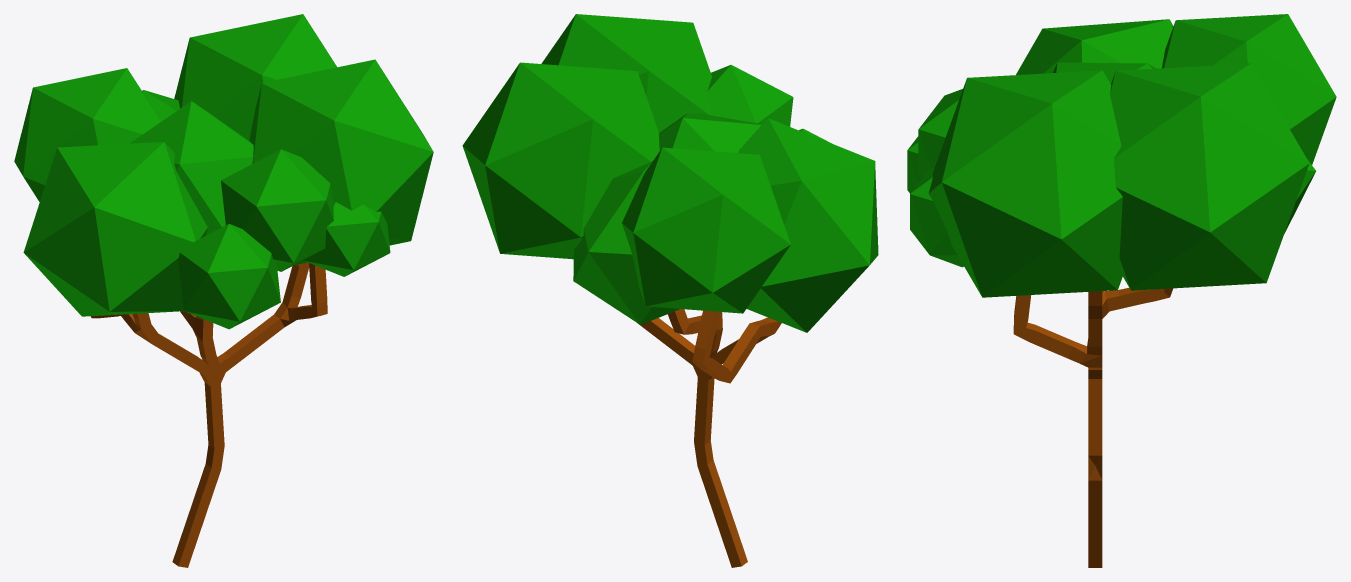
Rendered from Arbol Verde.fbx.
3 views of the same model, side by side, from view 1: azimuth 30°, elevation 25°; view 2: azimuth 150°, elevation 25°; view 3: azimuth 270°, elevation 25° (orthographic). The views are drawn at different scales.
Parts seen in each view (by area): view 1: Cylinder.002; view 2: Cylinder.002; view 3: Cylinder.002.
Part boxes in pixels (x1,y1,x2,y2): Cylinder.002: (14, 14, 433, 567); Cylinder.002: (462, 14, 878, 567); Cylinder.002: (907, 14, 1336, 567).
Bounding box in the file's own units: 839 × 1039 × 715.
